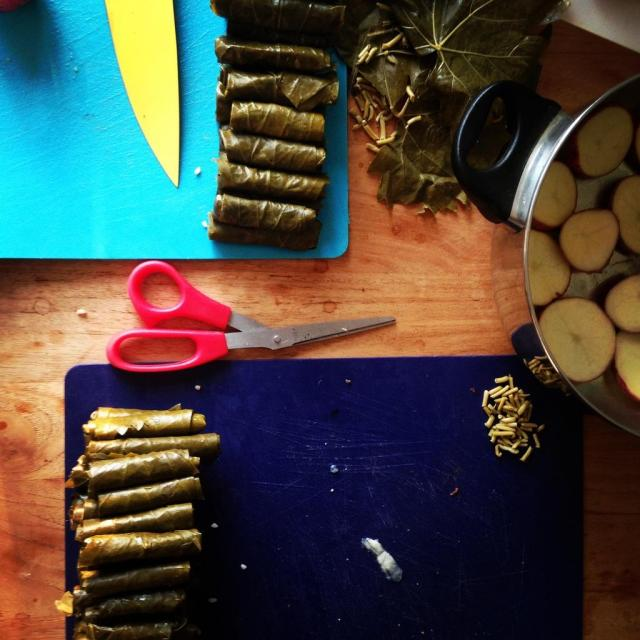scissor: (104, 258, 396, 376)
